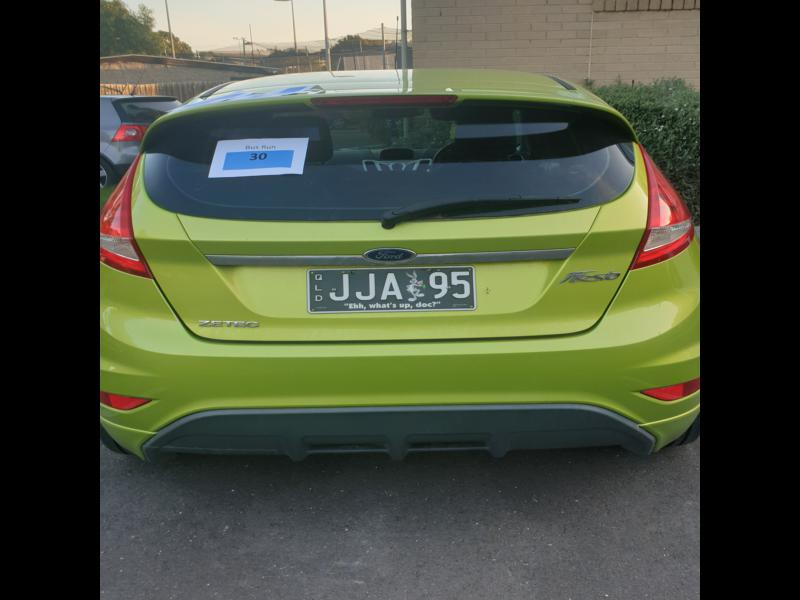BusRun: (226, 147, 294, 168)
PlateNo: (307, 266, 475, 312)
